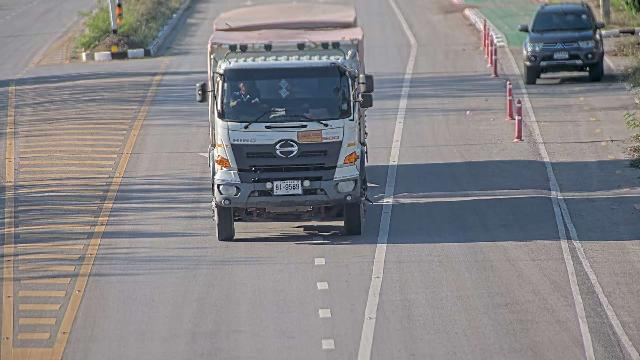pickup-truck: (517, 1, 606, 84)
truck: (191, 2, 376, 242)
